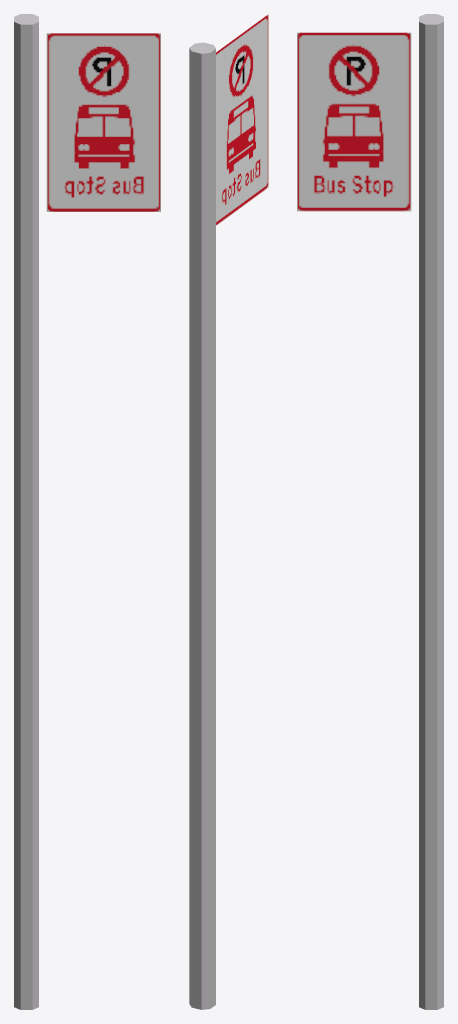
The model's file is BusStopSign.fbx.
3 renders of one model, left to right at view 1: azimuth 90°, elevation 25°; view 2: azimuth 150°, elevation 25°; view 3: azimuth 270°, elevation 25°, orthographic. The views are drawn at different scales.
Visible parts, largest first — view 1: BusSign1_pCube28; view 2: BusSign1_pCube28; view 3: BusSign1_pCube28.
Boxes of the visible parts, x1=… form: BusSign1_pCube28: x1=14, y1=14, x2=160, y2=1009; BusSign1_pCube28: x1=189, y1=14, x2=268, y2=1009; BusSign1_pCube28: x1=297, y1=14, x2=443, y2=1009.
Size of the model in its own units: 0.1275 by 5.52 by 0.7455.
